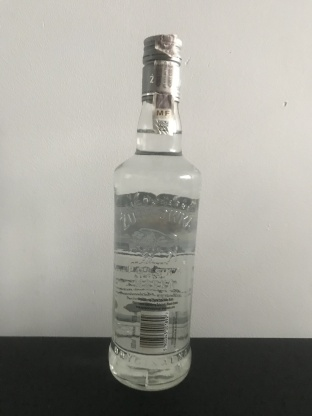nakretka: (139, 32, 183, 104)
